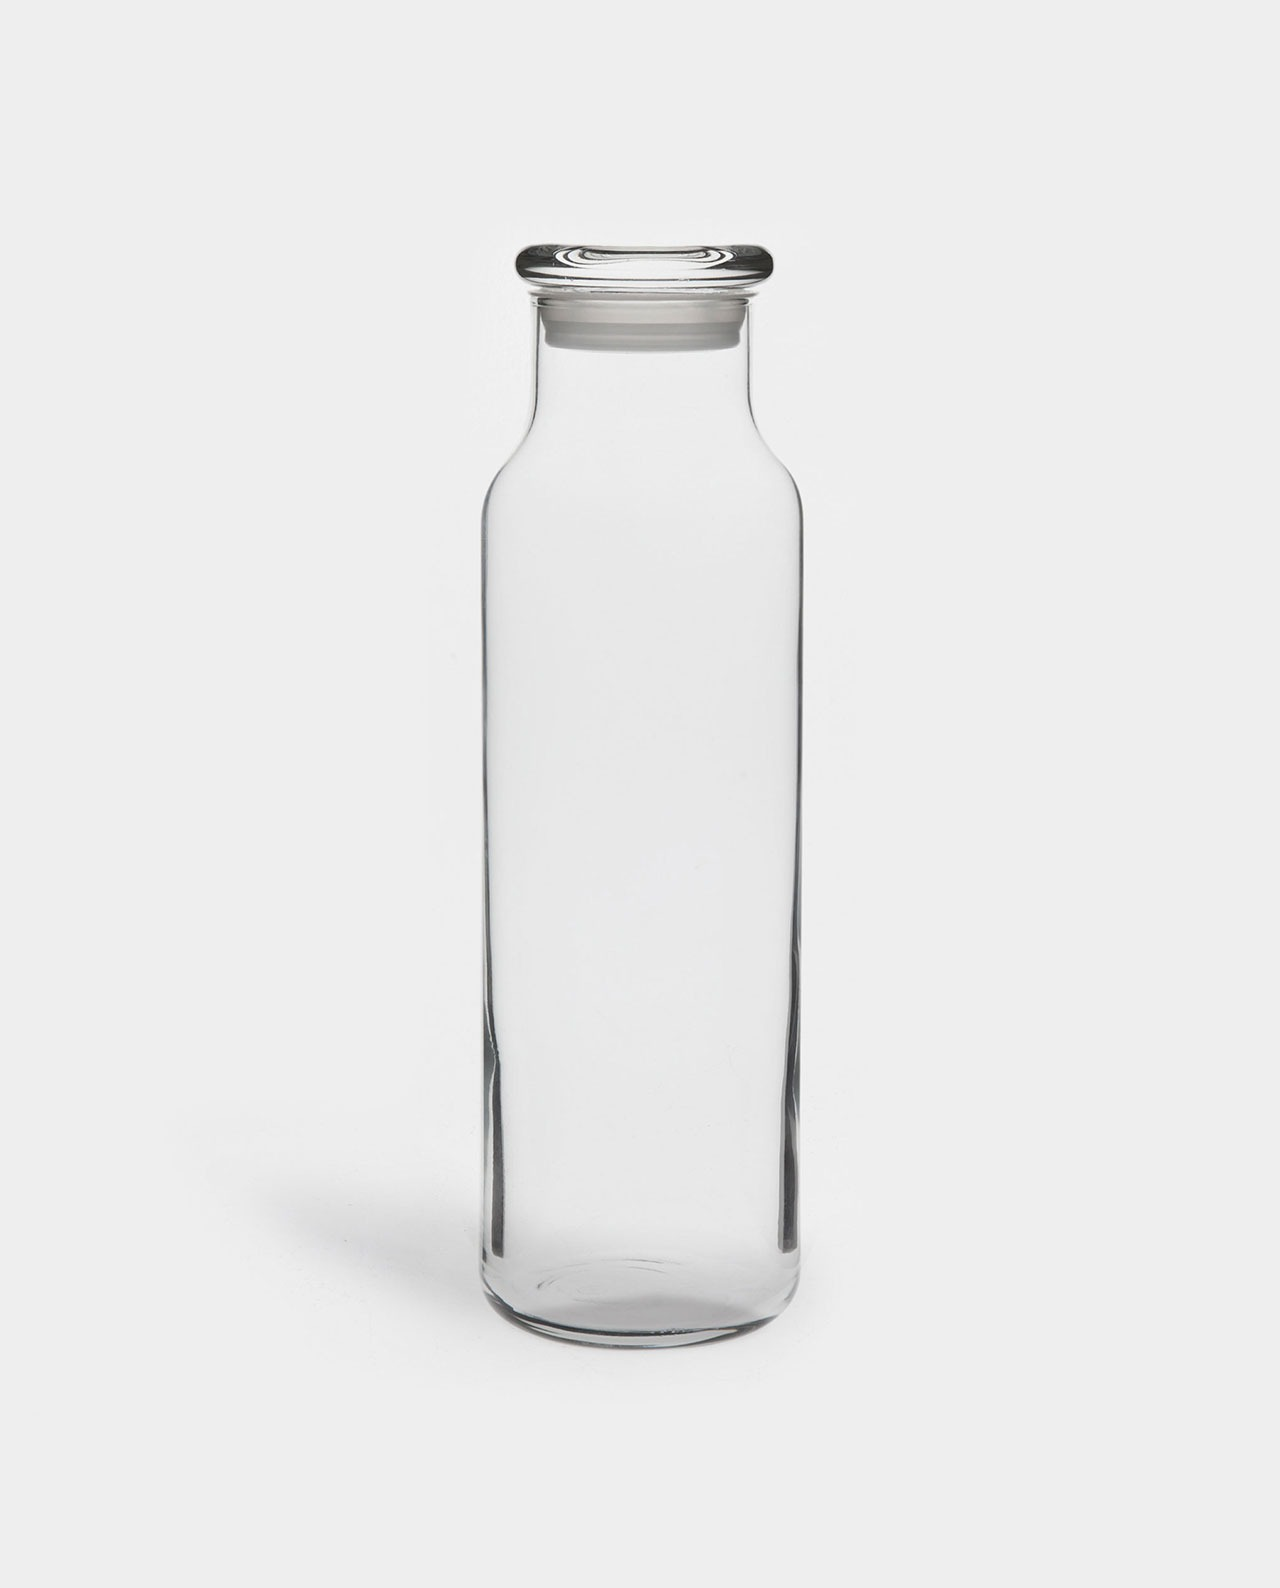container: (435, 209, 829, 1370)
